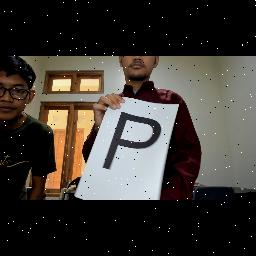p: (97, 110, 163, 178)
